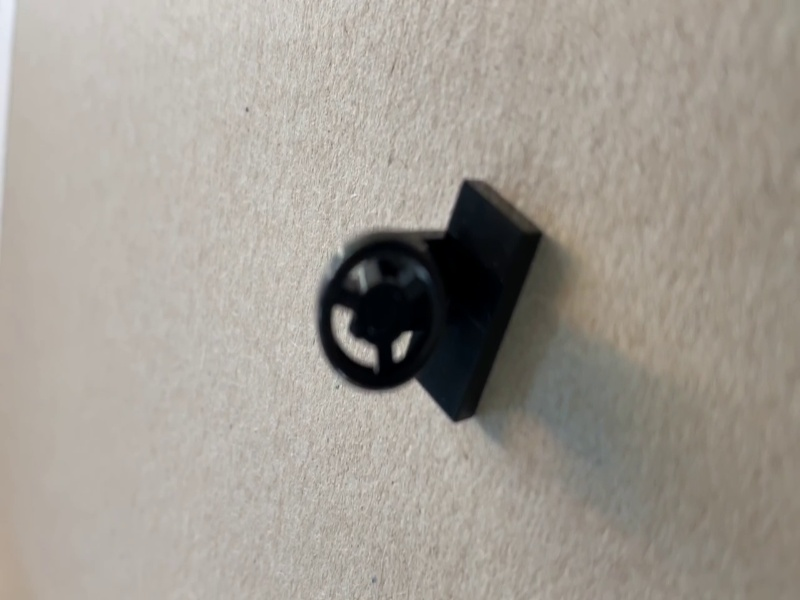steering wheel: (318, 179, 544, 426)
